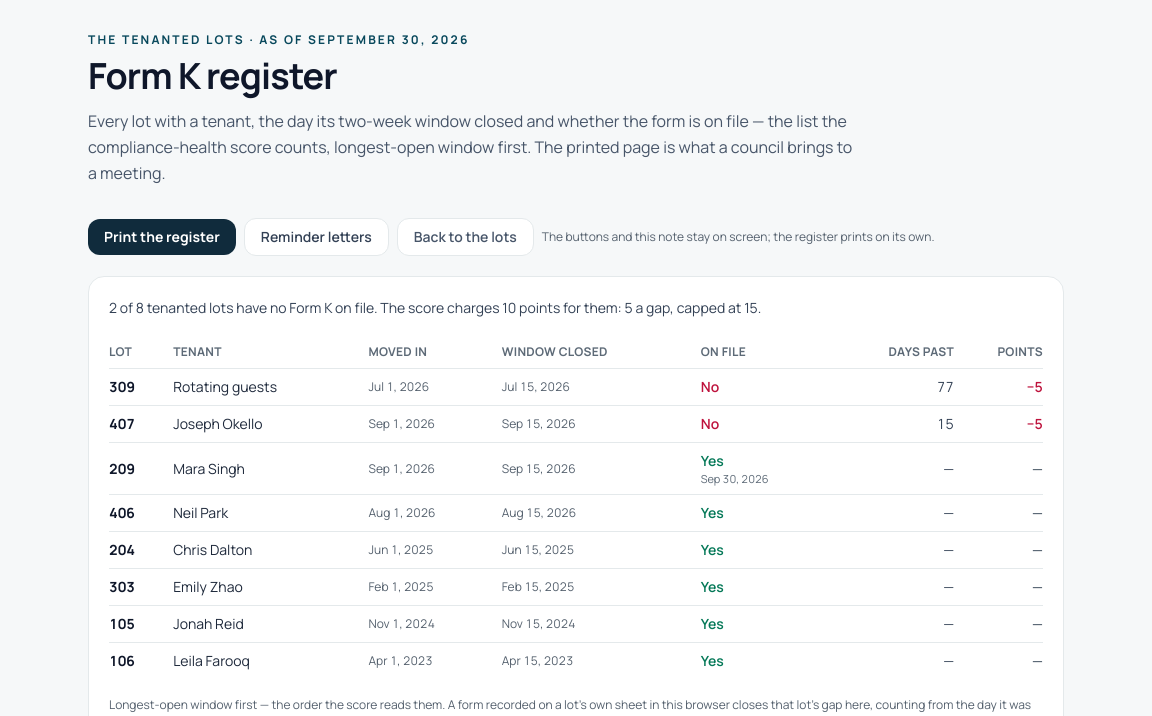
Test: /units/register — the reminder letters › closes a letter when the form is recorded on this device
What coordinates should you click on to do the following:
click the button "Reminder letters"
I would click on:
 (316, 237)
Its box is left=244, top=218, right=389, bottom=256.
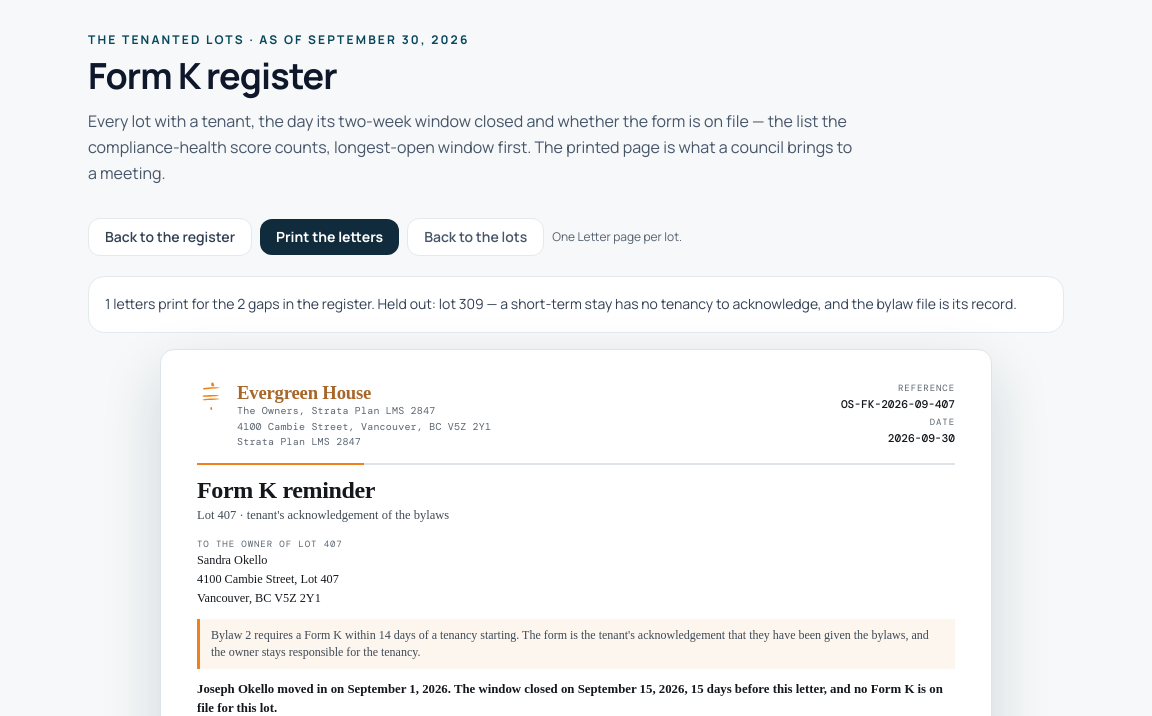
Now the text "OS-FK-2026-09-407" is shown, box left=841, top=396, right=955, bottom=412
